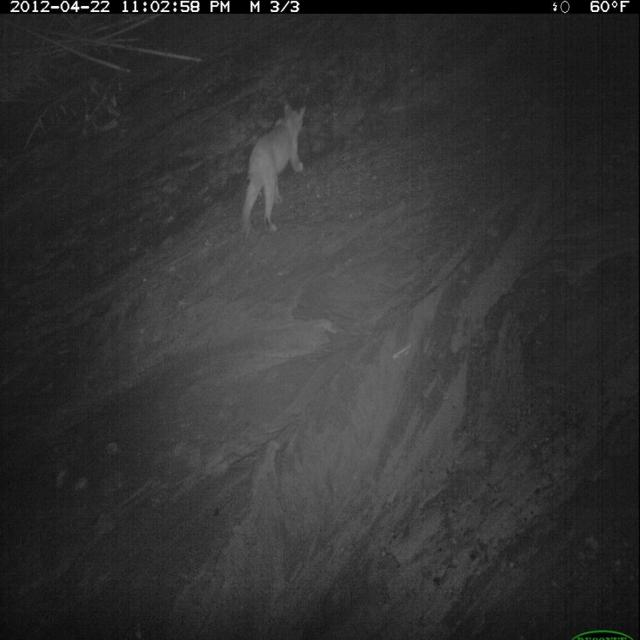bobcat: (237, 98, 312, 242)
